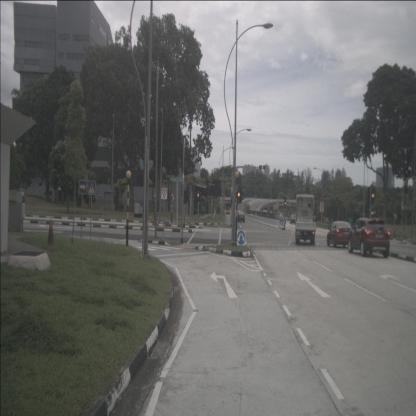cone: (47, 218, 55, 247), (149, 214, 152, 223)
